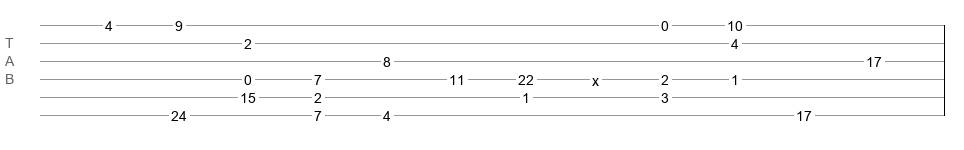0: (244, 72, 252, 82), (661, 18, 669, 28)
1: (522, 90, 530, 100), (731, 72, 739, 82)
10: (727, 18, 743, 28)
11: (449, 72, 465, 82)
15: (240, 90, 256, 100)
17: (796, 108, 812, 118), (866, 54, 882, 64)
2: (244, 36, 252, 46), (314, 90, 322, 100), (661, 72, 669, 82)
22: (518, 72, 534, 82)
24: (171, 108, 187, 118)
3: (661, 90, 669, 100)
4: (105, 18, 113, 28), (383, 108, 391, 118), (731, 36, 739, 46)
7: (314, 72, 322, 82), (314, 108, 322, 118)
8: (383, 54, 391, 64)
9: (175, 18, 183, 28)
x: (592, 73, 599, 81)
